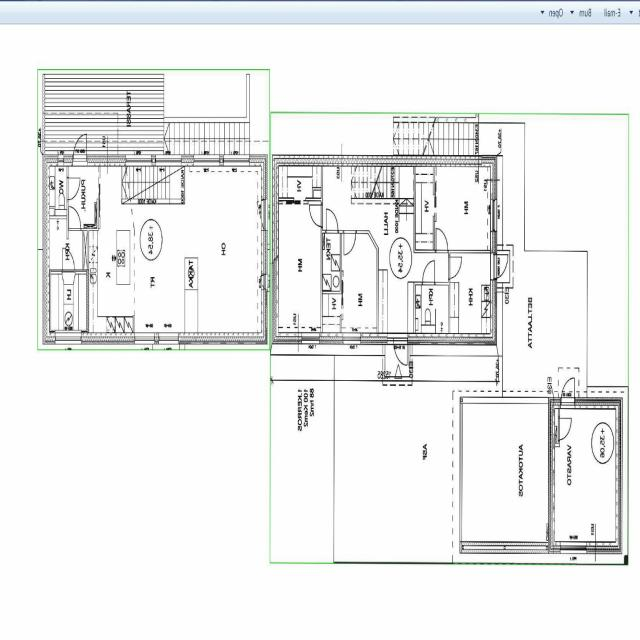door: (561, 372, 575, 409), (490, 254, 510, 278), (394, 333, 407, 369), (74, 131, 86, 166), (309, 204, 323, 226), (448, 256, 462, 278), (344, 230, 356, 255), (422, 260, 434, 285), (558, 418, 572, 439), (326, 209, 338, 233), (436, 228, 448, 252), (69, 206, 81, 230), (63, 248, 74, 274), (67, 178, 80, 199)
